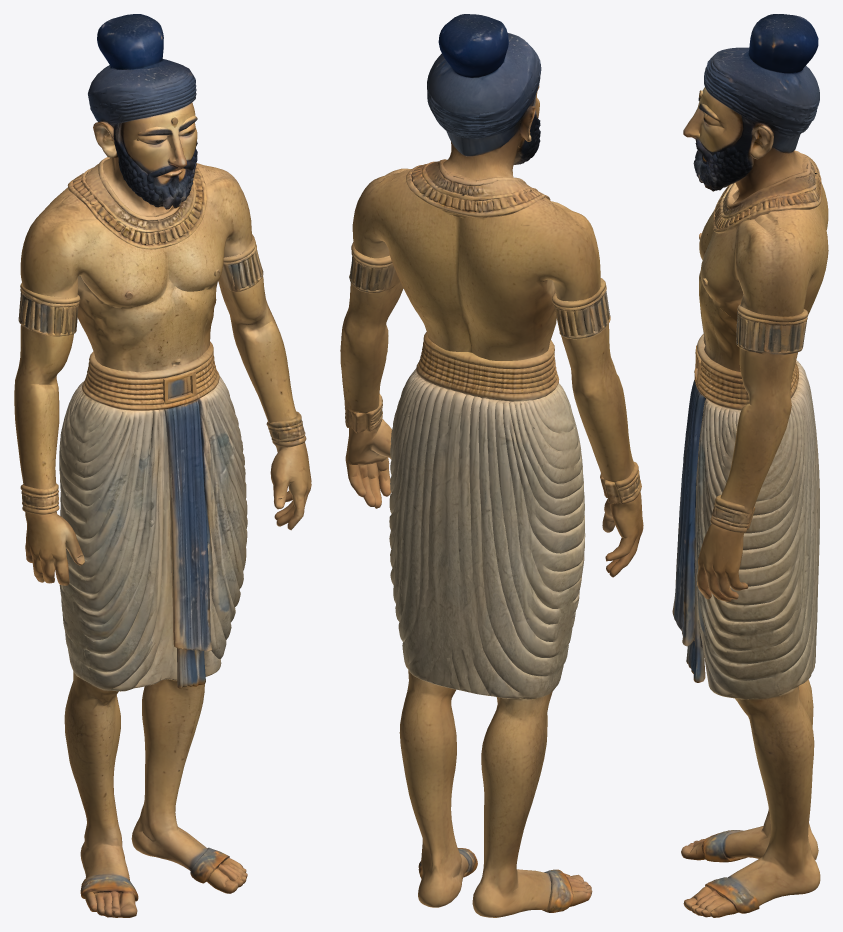
Rendered from crowd_young_noble_rodin_source.glb.
The picture shows the model from 3 angles, left to right: view 1: azimuth 30°, elevation 25°; view 2: azimuth 150°, elevation 25°; view 3: azimuth 270°, elevation 25°; orthographic projection. The views are drawn at different scales.
Visible parts, largest first — view 1: model; view 2: model; view 3: model.
Part boxes in pixels (bbox=[...]): model: bbox=[14, 14, 311, 917]; model: bbox=[340, 14, 643, 917]; model: bbox=[672, 14, 828, 917].
Bounding box in the file's own units: 0.652 × 1.9 × 0.3112.
Materials: 1 (1 with a texture image).
